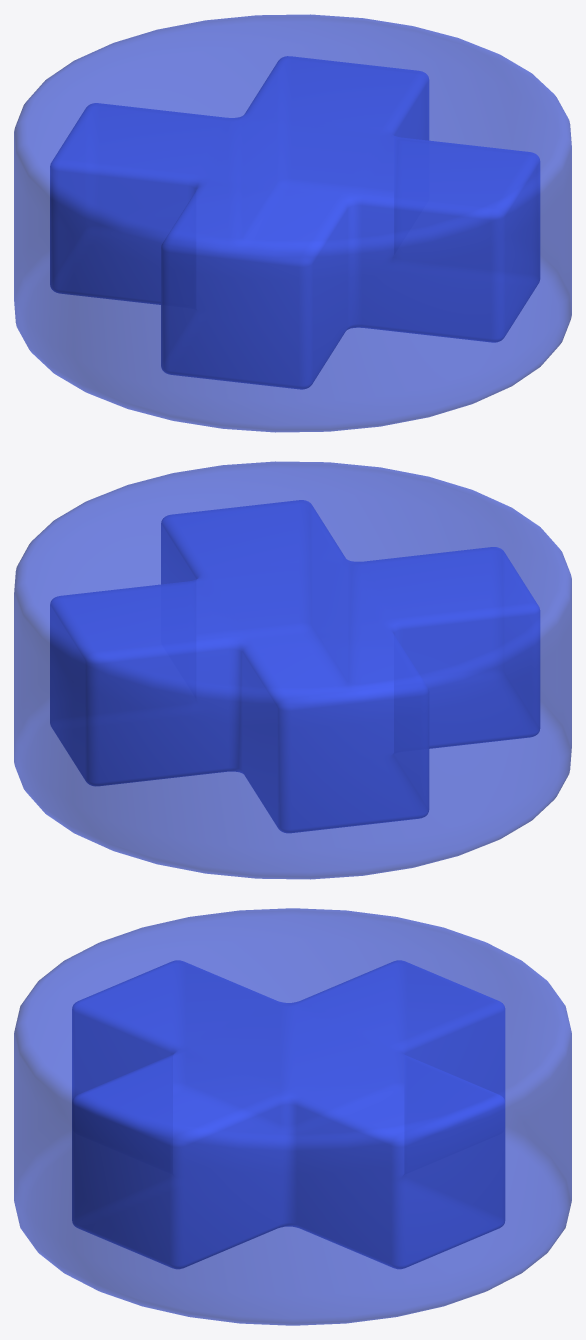
The model's file is Navigation Arrow(Circle).glb.
3 views of the same model, one above another, from view 1: azimuth 30°, elevation 25°; view 2: azimuth 150°, elevation 25°; view 3: azimuth 270°, elevation 25° (orthographic).
Parts seen in each view (by area): view 1: Cylinder; view 2: Cylinder; view 3: Cylinder.
Boxes of the visible parts, box(x1,y1,x2,y2) form: Cylinder: box(14, 14, 571, 432); Cylinder: box(14, 461, 571, 879); Cylinder: box(14, 908, 571, 1325).
Bounding box in the file's own units: 1.33 × 0.5 × 1.33.
